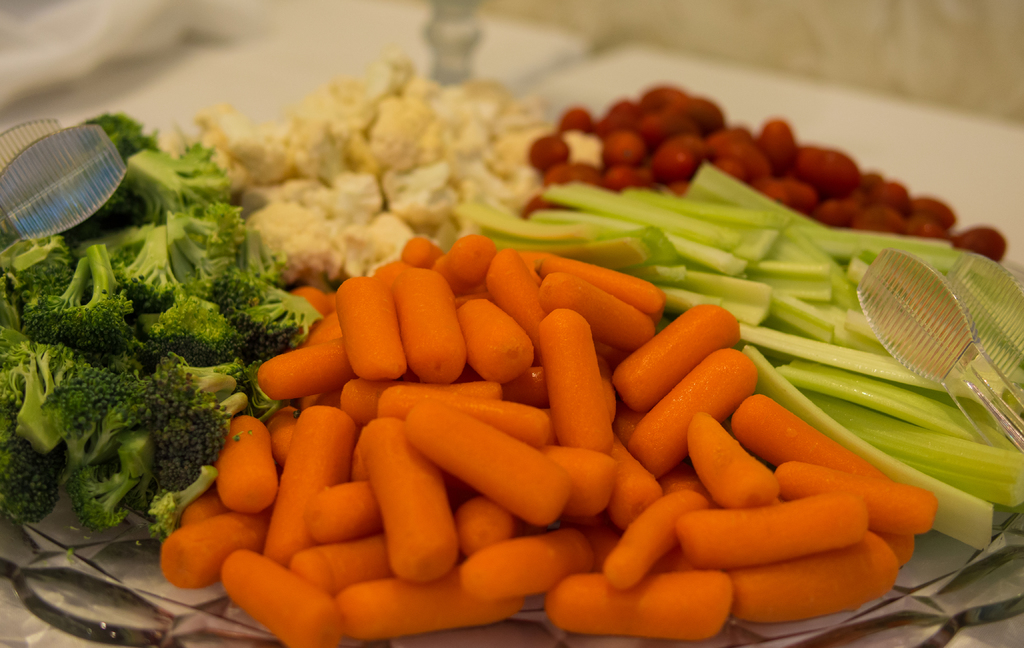Carrot: (162, 230, 937, 642), (404, 393, 573, 521)
